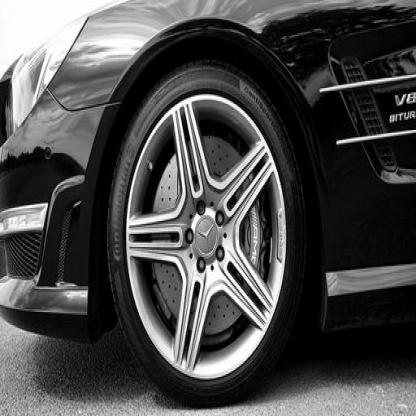Tire: (106, 61, 306, 410)
